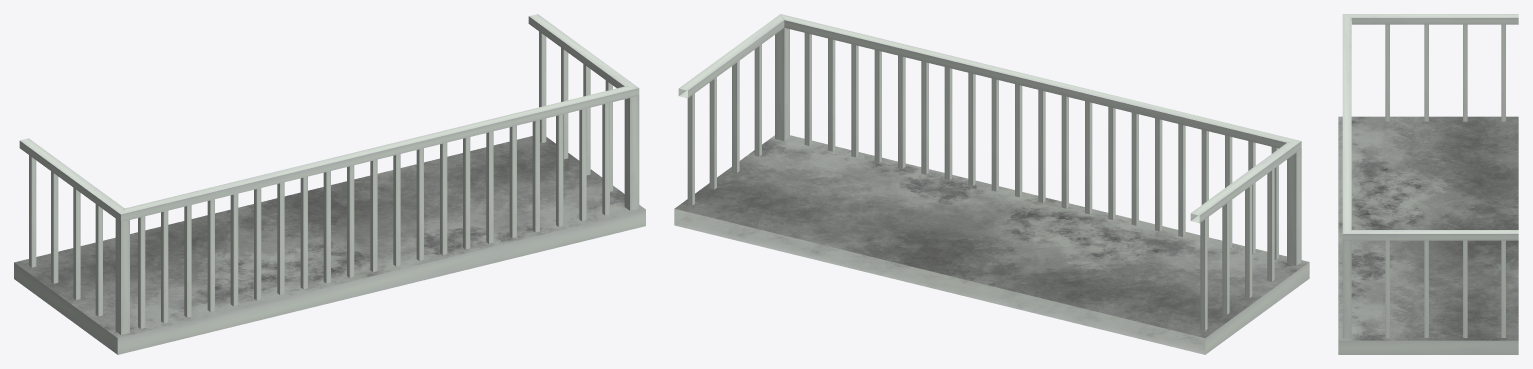
The model's file is Balcony.fbx.
3 renders of one model, left to right at view 1: azimuth 30°, elevation 25°; view 2: azimuth 150°, elevation 25°; view 3: azimuth 270°, elevation 25°, orthographic. The views are drawn at different scales.
Visible parts, largest first — view 1: Balcony; view 2: Balcony; view 3: Balcony.
Boxes of the visible parts, x1,y1,x2,y2 form: Balcony: (14, 14, 645, 354); Balcony: (674, 14, 1309, 354); Balcony: (1338, 14, 1518, 354).
Size of the model in its own units: 409 by 102 by 139.
